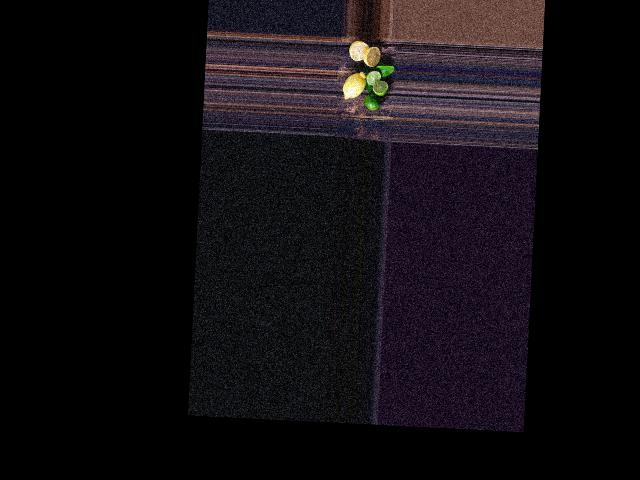lemon: (341, 69, 368, 101)
